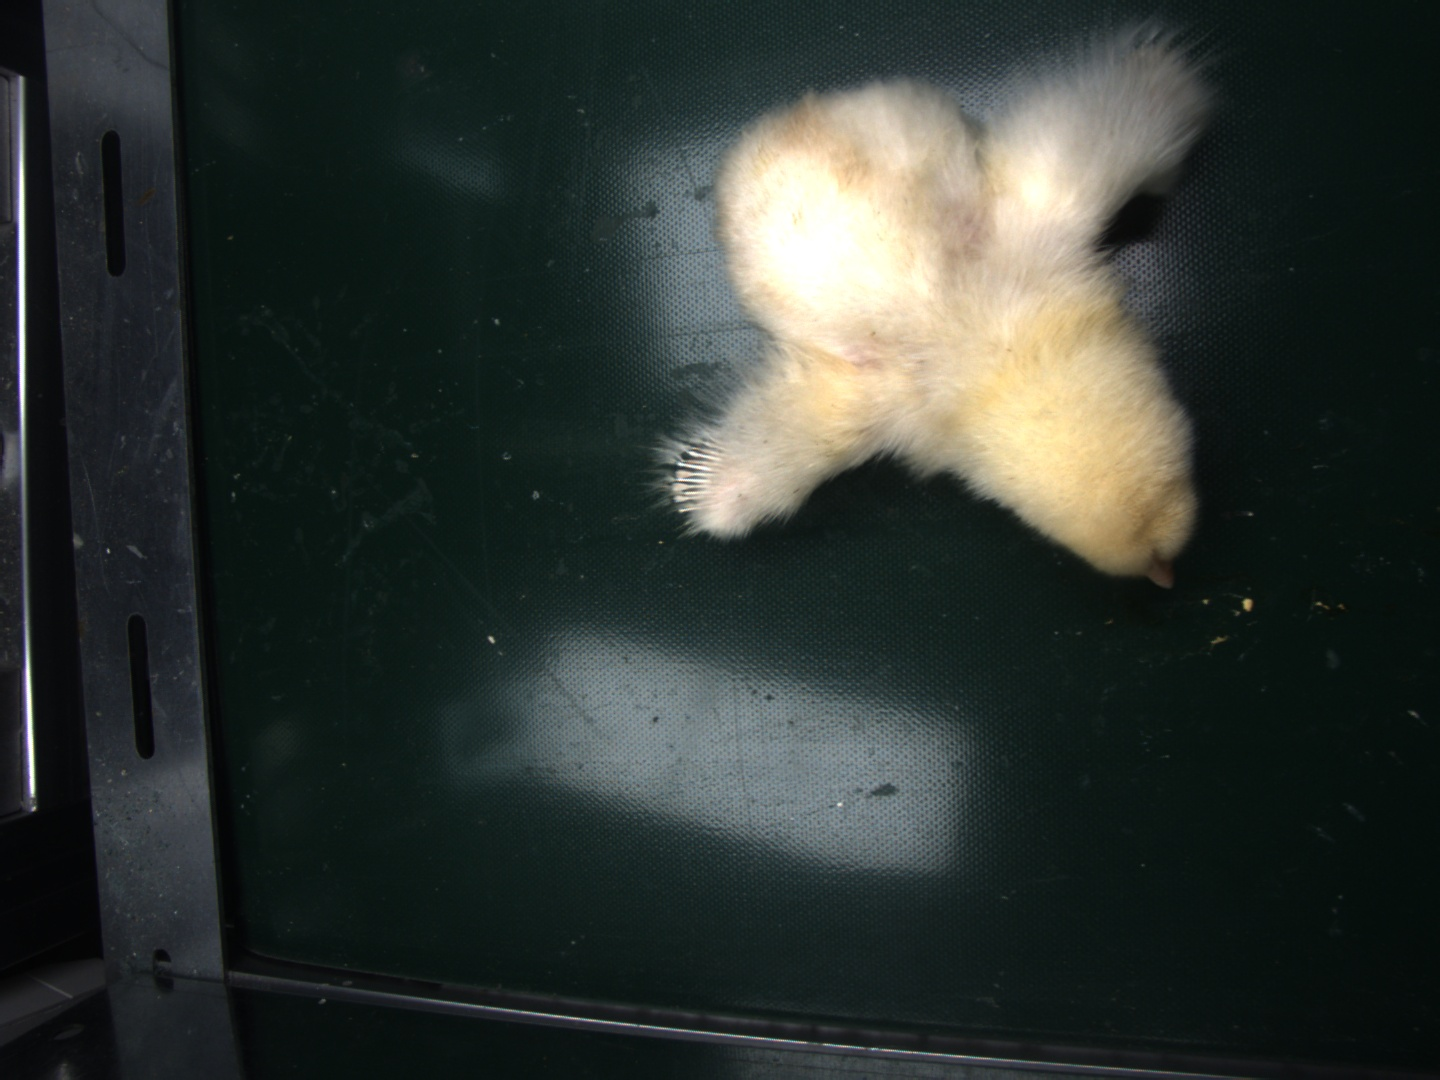male: (670, 442, 725, 518)
